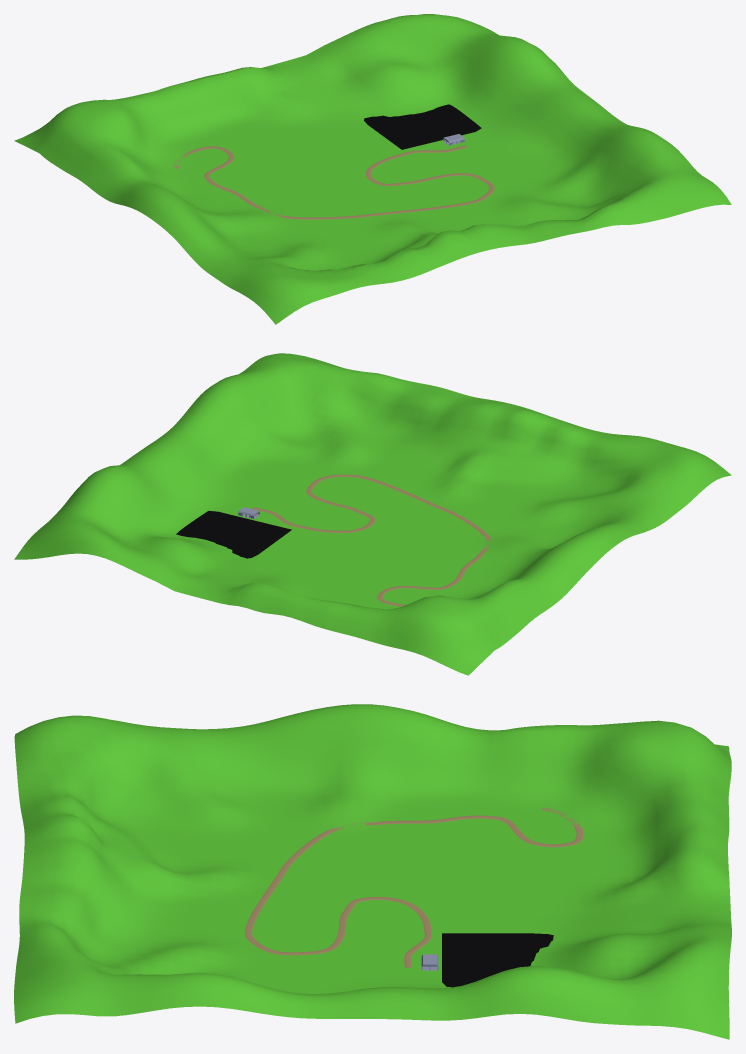
The model's file is playground.glb.
The picture shows the model from 3 angles, top to bottom: view 1: azimuth 30°, elevation 25°; view 2: azimuth 150°, elevation 25°; view 3: azimuth 270°, elevation 25°; orthographic projection. The views are drawn at different scales.
Parts seen in each view (by area): view 1: Terrain, ParkingLot, RoadPlane; view 2: Terrain, ParkingLot, RoadPlane; view 3: Terrain, ParkingLot, RoadPlane.
Part boxes in pixels (x1,y1,x2,y2): Terrain: (14, 14, 731, 324); ParkingLot: (364, 104, 481, 149); RoadPlane: (174, 145, 494, 219); Terrain: (14, 353, 731, 675); ParkingLot: (176, 511, 291, 558); RoadPlane: (252, 474, 490, 606); Terrain: (14, 704, 731, 1039); ParkingLot: (442, 933, 553, 987); RoadPlane: (245, 807, 583, 967).
Bounding box in the file's own units: 1477 × 143 × 1460.
Materials: 1 (1 with a texture image).
